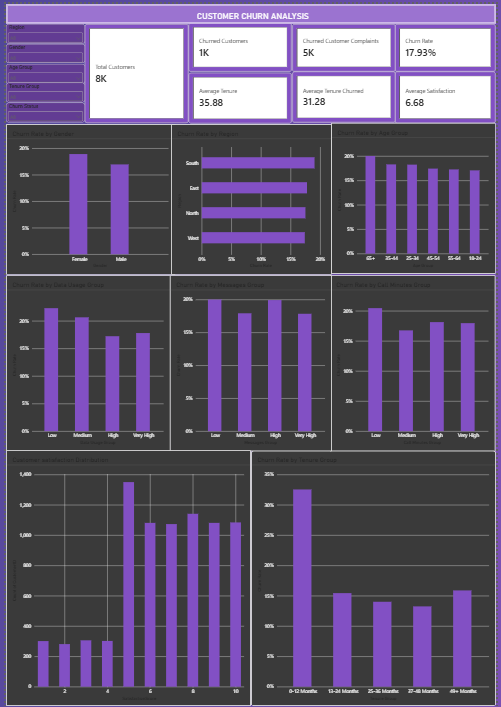

Layout of this report page (visuals, bound fields, positions):
{"tool":"powerbi","page":{"name":"Page 1","canvas":[1400,2010],"ordinal":0},"visuals":[{"type":"cardVisual","fields":{"Data":["Customers.Total Customers"]},"box":[225,58.3,296.7,283.3],"z":0},{"type":"cardVisual","fields":{"Data":["Customers.Churned Customers"]},"box":[521.7,55,295,140],"z":1000},{"type":"cardVisual","fields":{"Data":["Customers.Churn Rate"]},"box":[1111.7,56.7,288.3,136.7],"z":2000},{"type":"cardVisual","fields":{"Data":["Customers.Average Tenure"]},"box":[521.7,195,295,145],"z":3000},{"type":"cardVisual","fields":{"Data":["Customers.Average Satisfaction"]},"box":[1111.7,193.3,288.3,148.3],"z":4000},{"type":"clusteredColumnChart","fields":{"Category":["Customers.Age Group"],"Y":["Customers.Churn Rate"]},"box":[930,340,470,431.7],"z":5000},{"type":"clusteredColumnChart","fields":{"Category":["Customers.Gender"],"Y":["Customers.Churn Rate"]},"box":[0,342,484,430],"z":6000},{"type":"barChart","fields":{"Y":["Customers.Churn Rate"],"Category":["Customers.Region"]},"box":[470,342,460,430],"z":7000},{"type":"clusteredColumnChart","fields":{"Category":["Customers.Tenure Group"],"Y":["Customers.Churn Rate"]},"box":[700,1276.7,700,733.3],"z":8000},{"type":"textbox","title":"CUSTOMER CHURN ANALYSIS","box":[0,0,1400,56.7],"z":9000},{"type":"cardVisual","title":"complaints from churned customer","fields":{"Data":["Customers.Churned Customer Complaints"]},"box":[816.7,56.7,295,136.7],"z":10000},{"type":"cardVisual","fields":{"Data":["Customers.Average Tenure Churned"]},"box":[816.7,193.3,295,146.7],"z":11000},{"type":"slicer","fields":{"Values":["Customers.Region"]},"box":[0,58.6,225.7,55.7],"z":12000},{"type":"slicer","fields":{"Values":["Customers.Gender"]},"box":[0,115.7,225.7,54.3],"z":13000},{"type":"slicer","fields":{"Values":["Customers.Age Group"]},"box":[0,170,225.7,55.7],"z":14000},{"type":"slicer","fields":{"Values":["Customers.Tenure Group"]},"box":[0,225.7,225.7,55.7],"z":15000},{"type":"slicer","title":"customer status","fields":{"Values":["Customers.Churn Status"]},"box":[0,281.4,225.7,55.7],"z":16000},{"type":"clusteredColumnChart","fields":{"Category":["Usage.Data Usage Group"],"Y":["Customers.Churn Rate"]},"box":[0,773.3,470,503.3],"z":17000},{"type":"clusteredColumnChart","fields":{"Category":["Usage.Call Minutes Group"],"Y":["Customers.Churn Rate"]},"box":[926.7,773.3,473.3,503.3],"z":18000},{"type":"columnChart","fields":{"Category":["Usage.Messages Group"],"Y":["Customers.Churn Rate"]},"box":[466.7,773.3,463.3,503.3],"z":19000},{"type":"clusteredColumnChart","title":"Customer satisfaction Distribution","fields":{"Category":["Feedback.SatisfactionScore"],"Y":["Count(Feedback.CustomerID)"]},"box":[0,1276.7,700,733.3],"z":20000}]}

Visuals, with their boxes in screenshot pixels (x1, y1, x2, y2), scaled from the page's 1400x2010 canvas onto the 501x707 screenshot:
cardVisual - Customers.Total Customers: [left=81, top=21, right=187, bottom=120]
cardVisual - Customers.Churned Customers: [left=187, top=19, right=292, bottom=69]
cardVisual - Customers.Churn Rate: [left=398, top=20, right=500, bottom=68]
cardVisual - Customers.Average Tenure: [left=187, top=69, right=292, bottom=120]
cardVisual - Customers.Average Satisfaction: [left=398, top=68, right=500, bottom=120]
clusteredColumnChart - Customers.Age Group x Customers.Churn Rate: [left=333, top=120, right=500, bottom=271]
clusteredColumnChart - Customers.Gender x Customers.Churn Rate: [left=0, top=120, right=173, bottom=272]
barChart - Customers.Churn Rate x Customers.Region: [left=168, top=120, right=333, bottom=272]
clusteredColumnChart - Customers.Tenure Group x Customers.Churn Rate: [left=250, top=449, right=500, bottom=706]
"CUSTOMER CHURN ANALYSIS" textbox: [left=0, top=0, right=500, bottom=20]
"complaints from churned customer" cardVisual: [left=292, top=20, right=398, bottom=68]
cardVisual - Customers.Average Tenure Churned: [left=292, top=68, right=398, bottom=120]
slicer - Customers.Region: [left=0, top=21, right=81, bottom=40]
slicer - Customers.Gender: [left=0, top=41, right=81, bottom=60]
slicer - Customers.Age Group: [left=0, top=60, right=81, bottom=79]
slicer - Customers.Tenure Group: [left=0, top=79, right=81, bottom=99]
"customer status" slicer: [left=0, top=99, right=81, bottom=119]
clusteredColumnChart - Usage.Data Usage Group x Customers.Churn Rate: [left=0, top=272, right=168, bottom=449]
clusteredColumnChart - Usage.Call Minutes Group x Customers.Churn Rate: [left=332, top=272, right=500, bottom=449]
columnChart - Usage.Messages Group x Customers.Churn Rate: [left=167, top=272, right=333, bottom=449]
"Customer satisfaction Distribution" clusteredColumnChart: [left=0, top=449, right=250, bottom=706]
